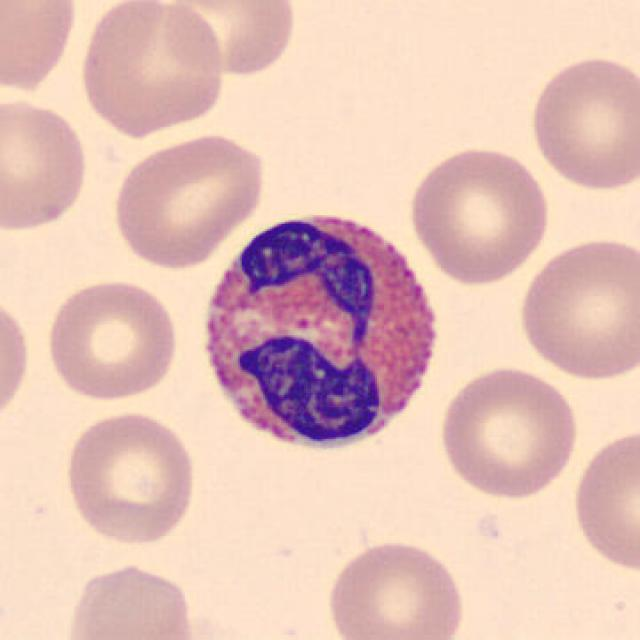Eosinophil: (188, 196, 454, 464)
RBC: (108, 128, 270, 272), (403, 141, 553, 287), (74, 0, 227, 139), (434, 361, 581, 501), (61, 407, 199, 547), (514, 232, 638, 382), (41, 275, 181, 404), (524, 51, 638, 194), (322, 534, 469, 640), (0, 93, 92, 234), (158, 0, 300, 81), (61, 559, 199, 640), (569, 423, 638, 575), (0, 0, 82, 97), (0, 289, 34, 429)
